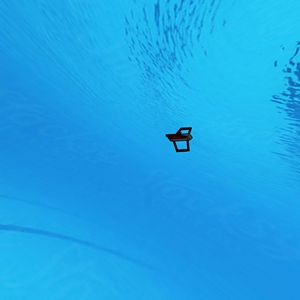submarine: (168, 128, 197, 152)
